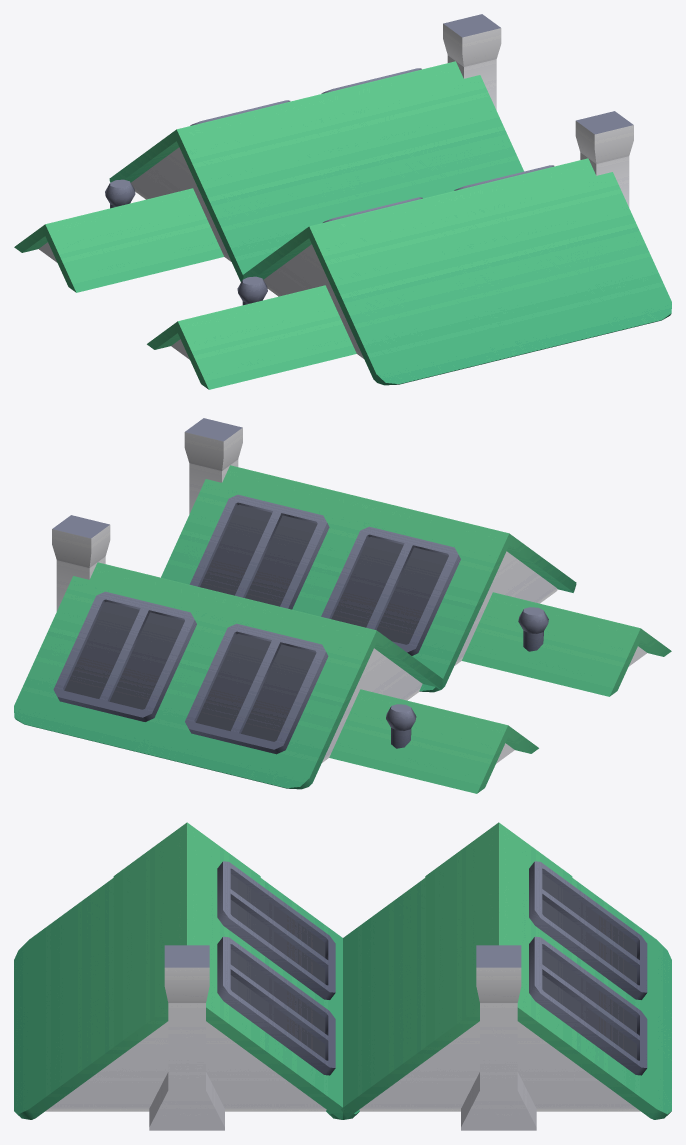
Rendered from suburban-j.glb.
3 views of the same model, one above another, from view 1: azimuth 30°, elevation 25°; view 2: azimuth 150°, elevation 25°; view 3: azimuth 270°, elevation 25° (orthographic). The views are drawn at different scales.
Visible parts, largest first — view 1: building-type-j; view 2: building-type-j; view 3: building-type-j.
Boxes of the visible parts, bbox=[...] form: building-type-j: bbox=[14, 14, 671, 389]; building-type-j: bbox=[14, 418, 671, 793]; building-type-j: bbox=[14, 822, 671, 1130].
Bounding box in the file's own units: 12.9 × 3.87 × 14.
1 material, 1 textured.
